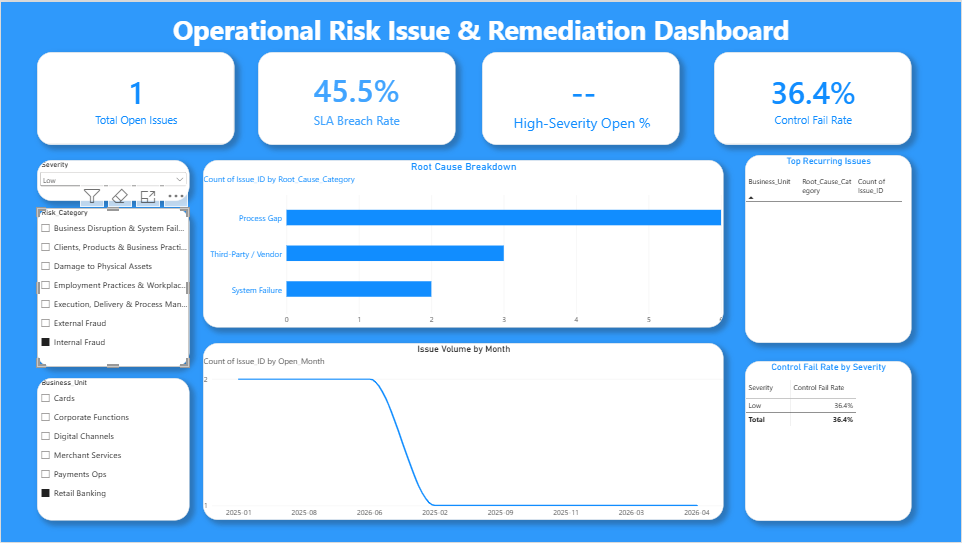

Layout of this report page (visuals, bound fields, positions):
{"tool":"powerbi","page":{"name":"Page 1","canvas":[1920,1080],"ordinal":0},"visuals":[{"type":"cardVisual","fields":{"Data":["risk_issues_dataset.Overdue Pct"]},"box":[514.1,99.4,395.3,185.8],"z":0},{"type":"cardVisual","fields":{"Data":["risk_issues_dataset.Control Fail Rate"]},"box":[1425.6,99.4,395.3,185.8],"z":1},{"type":"lineChart","title":"Issue Volume by Month","fields":{"Y":["CountNonNull(risk_issues_dataset.Issue_ID)"],"Category":["risk_issues_dataset.Open_Month"]},"box":[403.9,682.6,1041.1,354.2],"z":5},{"type":"clusteredBarChart","title":"Root Cause Breakdown","fields":{"Category":["risk_issues_dataset.Root_Cause_Category"],"Y":["CountNonNull(risk_issues_dataset.Issue_ID)"]},"box":[403.9,315.4,1041.1,334.8],"z":6},{"type":"tableEx","title":"Control Fail Rate by Severity","fields":{"Values":["risk_issues_dataset.Severity","risk_issues_dataset.Control Fail Rate"]},"box":[1488.2,717.1,332.6,319.7],"z":7},{"type":"cardVisual","fields":{"Data":["risk_issues_dataset.Total Open Issues"]},"box":[71.3,99.4,395.3,185.8],"z":8},{"type":"tableEx","title":"Top Recurring Issues","fields":{"Values":["risk_issues_dataset.Business_Unit","risk_issues_dataset.Root_Cause_Category","risk_issues_dataset.Issue_ID"]},"box":[1488.2,306.7,332.6,375.8],"z":9},{"type":"textbox","box":[0,17.3,1920.2,82.1],"z":11},{"type":"slicer","fields":{"Values":["risk_issues_dataset.Business_Unit"]},"box":[71.3,751.7,304.6,285.1],"z":12},{"type":"slicer","fields":{"Values":["risk_issues_dataset.Severity"]},"box":[71.3,315.4,304.6,82.1],"z":13},{"type":"slicer","fields":{"Values":["risk_issues_dataset.Risk_Category"]},"box":[71.3,412.6,304.6,317.5],"z":14},{"type":"cardVisual","fields":{"Data":["risk_issues_dataset.High Severity Open Pct"]},"box":[961.2,99.4,395.3,185.8],"z":15}]}

Visuals, with their boxes in screenshot pixels (x1, y1, x2, y2), scaled from the page's 1920x1080 canvas onto the 962x543 screenshot:
cardVisual - risk_issues_dataset.Overdue Pct: detection(258, 50, 456, 143)
cardVisual - risk_issues_dataset.Control Fail Rate: detection(714, 50, 912, 143)
"Issue Volume by Month" lineChart: detection(202, 343, 724, 521)
"Root Cause Breakdown" clusteredBarChart: detection(202, 159, 724, 327)
"Control Fail Rate by Severity" tableEx: detection(746, 361, 912, 521)
cardVisual - risk_issues_dataset.Total Open Issues: detection(36, 50, 234, 143)
"Top Recurring Issues" tableEx: detection(746, 154, 912, 343)
textbox: detection(0, 9, 961, 50)
slicer - risk_issues_dataset.Business_Unit: detection(36, 378, 188, 521)
slicer - risk_issues_dataset.Severity: detection(36, 159, 188, 200)
slicer - risk_issues_dataset.Risk_Category: detection(36, 207, 188, 367)
cardVisual - risk_issues_dataset.High Severity Open Pct: detection(482, 50, 680, 143)
